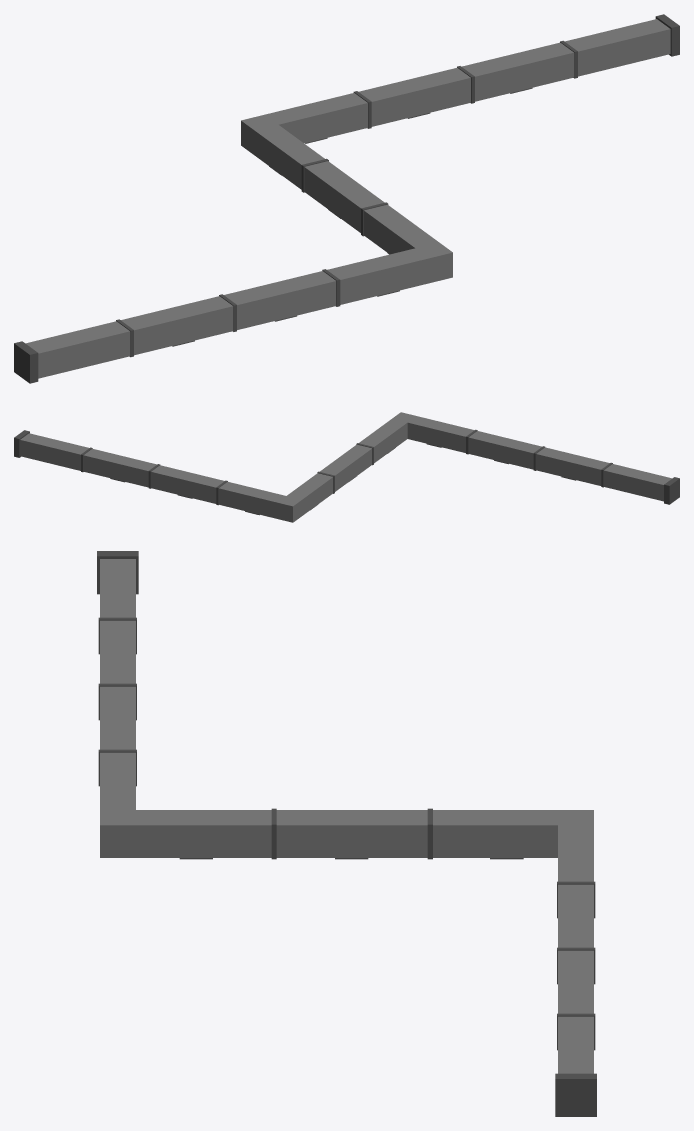
The model's file is WallDecor_08.fbx.
3 views of the same model, one above another, from view 1: azimuth 30°, elevation 25°; view 2: azimuth 150°, elevation 25°; view 3: azimuth 270°, elevation 25° (orthographic). The views are drawn at different scales.
Visible parts, largest first — view 1: WallDecor_08; view 2: WallDecor_08; view 3: WallDecor_08.
Boxes of the visible parts, x1=… form: WallDecor_08: x1=14, y1=14, x2=679, y2=383; WallDecor_08: x1=14, y1=412, x2=679, y2=522; WallDecor_08: x1=97, y1=551, x2=596, y2=1116.
Bounding box in the file's own units: 3000 × 100 × 1200.
